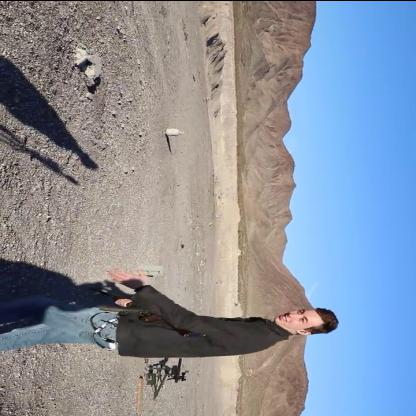long weapon: (91, 276, 203, 340), (148, 356, 194, 386)
